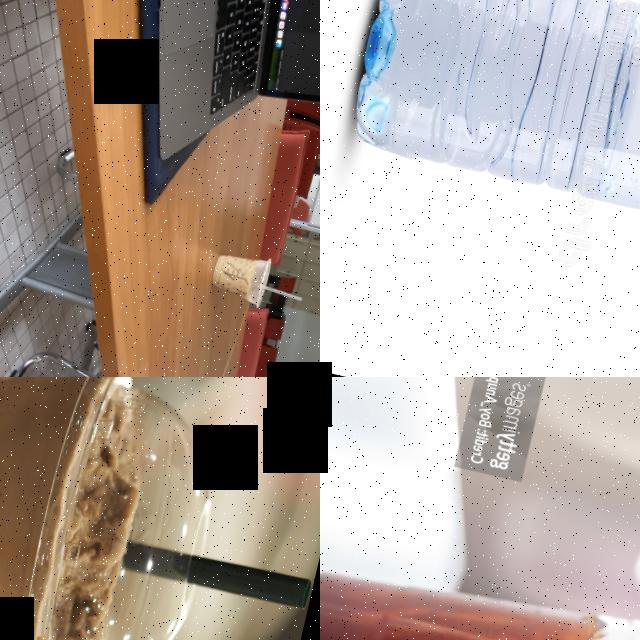bottle: (337, 0, 640, 289)
cup: (0, 377, 240, 640), (320, 521, 640, 640), (202, 242, 280, 314)
